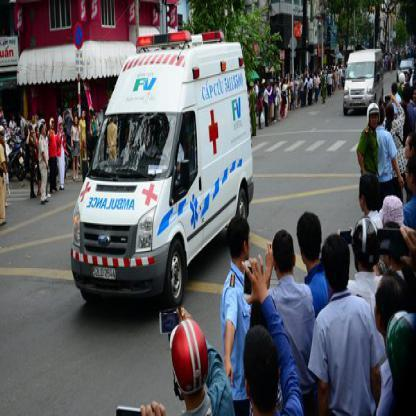Ambulance - v1 Ambulance last generate: (69, 27, 254, 315)
